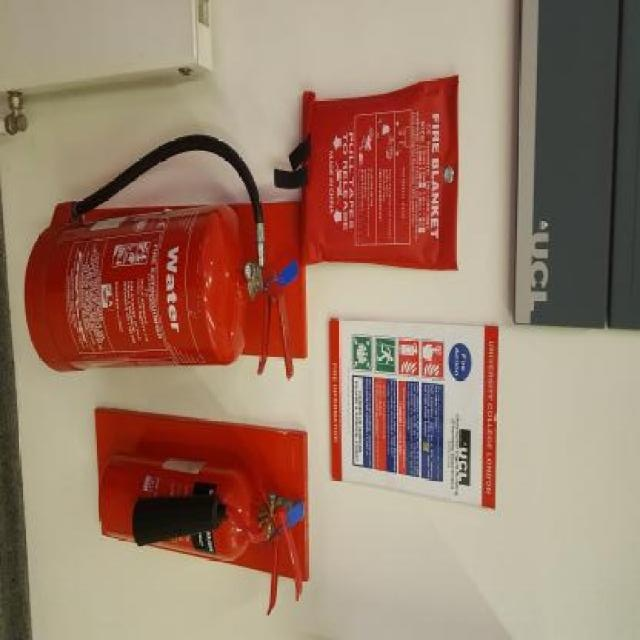fire extinguisher: (24, 129, 293, 383), (98, 450, 302, 615)
